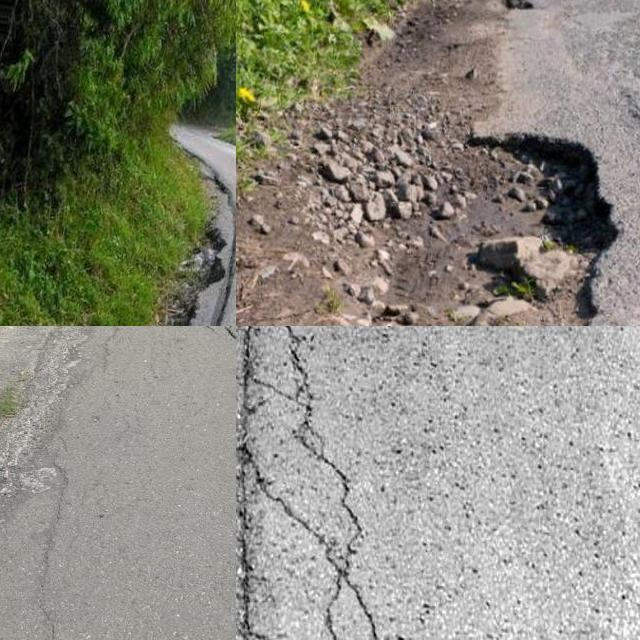Memanjang: (236, 326, 401, 640)
Pinggir: (408, 119, 633, 326), (140, 180, 236, 326)
